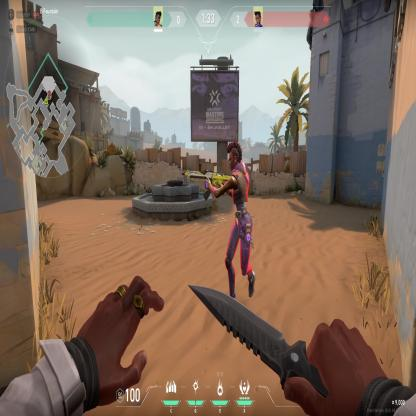enemy: (222, 139, 258, 318)
